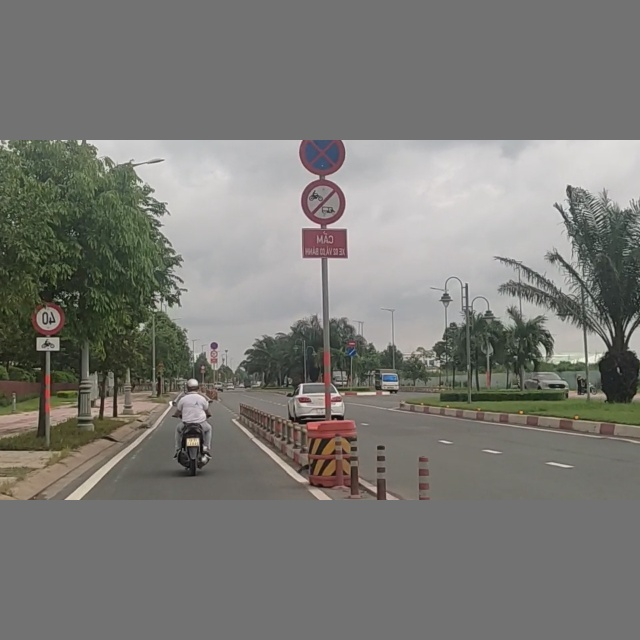P.111: (301, 177, 347, 226)
P.127*40: (33, 302, 64, 335)
S.505a*Xe may: (35, 335, 61, 351)
